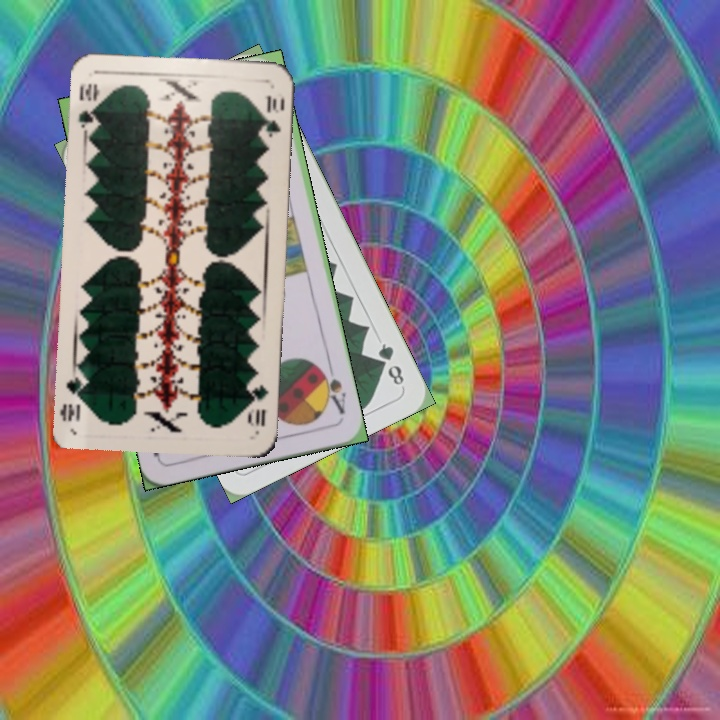G10: (74, 79, 102, 135), (244, 380, 271, 429)
G8: (373, 339, 407, 388)
SA: (316, 361, 349, 417)
